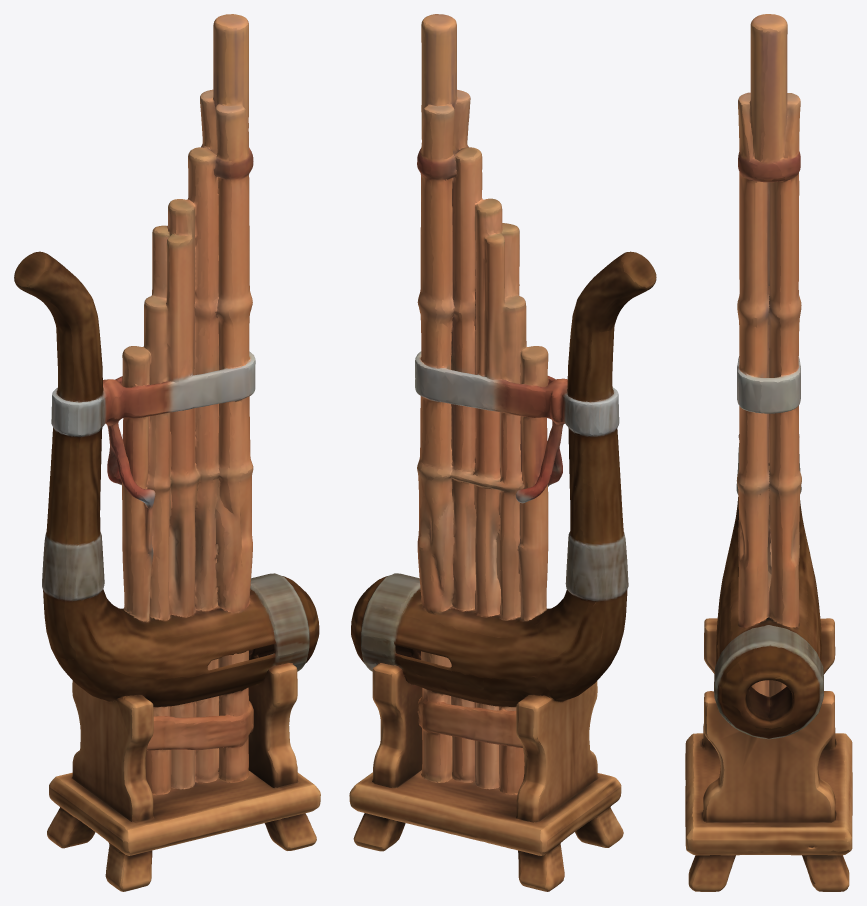
Rendered from lusheng.optimized.glb.
3 renders of one model, left to right at view 1: azimuth 30°, elevation 25°; view 2: azimuth 150°, elevation 25°; view 3: azimuth 270°, elevation 25°, orthographic. The views are drawn at different scales.
Parts seen in each view (by area): view 1: geometry_0; view 2: geometry_0; view 3: geometry_0.
Boxes of the visible parts, bbox=[...] form: geometry_0: bbox=[14, 14, 320, 891]; geometry_0: bbox=[349, 14, 656, 891]; geometry_0: bbox=[685, 14, 852, 891].
Size of the model in its own units: 0.1668 by 0.45 by 0.0804.
Materials: 1 (1 with a texture image).
